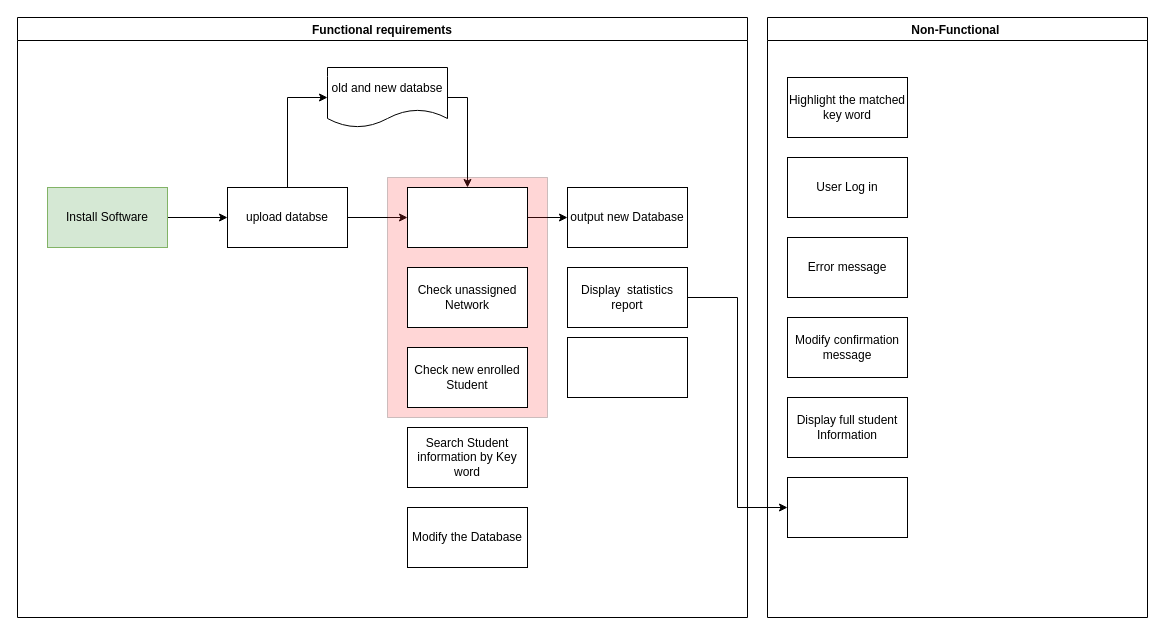
This 1165x635 diagram has some shape labels left out. The centre of each missing label's shape, as x and y in pixels:
Check withdrawn student: point 467,217
Display number of student: point 847,507
